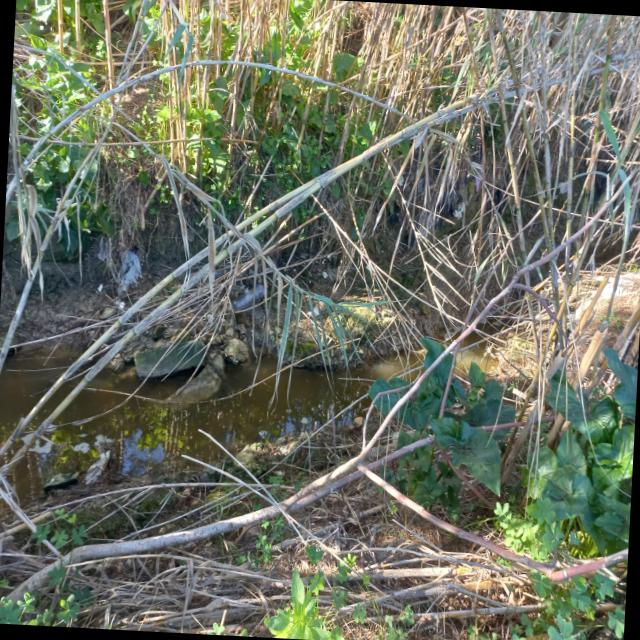Bottle: (233, 282, 268, 314)
Other plastic: (116, 248, 142, 298), (85, 449, 110, 485), (98, 283, 104, 293)
